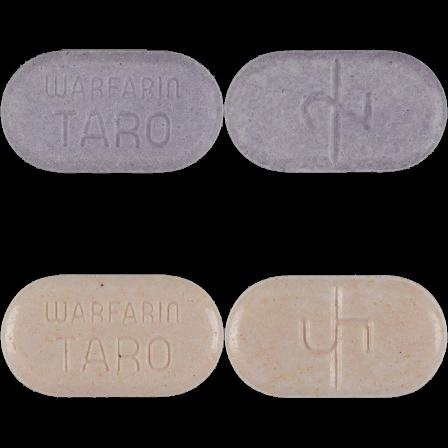33261-356: (0, 0, 224, 224)
